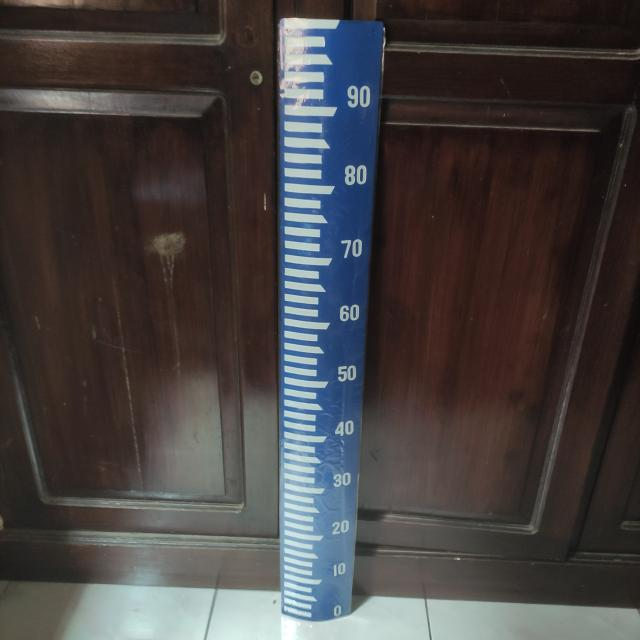10: (331, 559, 349, 579)
20: (330, 517, 350, 536)
30: (332, 468, 352, 490)
40: (333, 416, 355, 438)
50: (336, 364, 358, 384)
60: (338, 300, 362, 325)
70: (341, 236, 363, 261)
80: (344, 163, 368, 188)
90: (344, 83, 373, 113)
staff: (280, 19, 384, 622)
